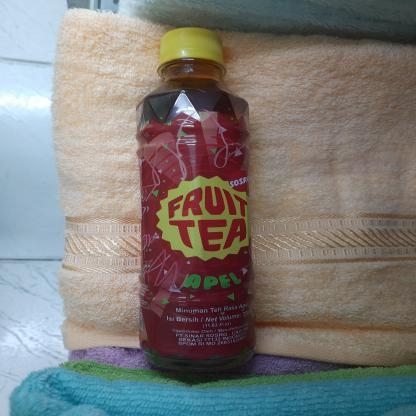bottle: (128, 23, 260, 388)
